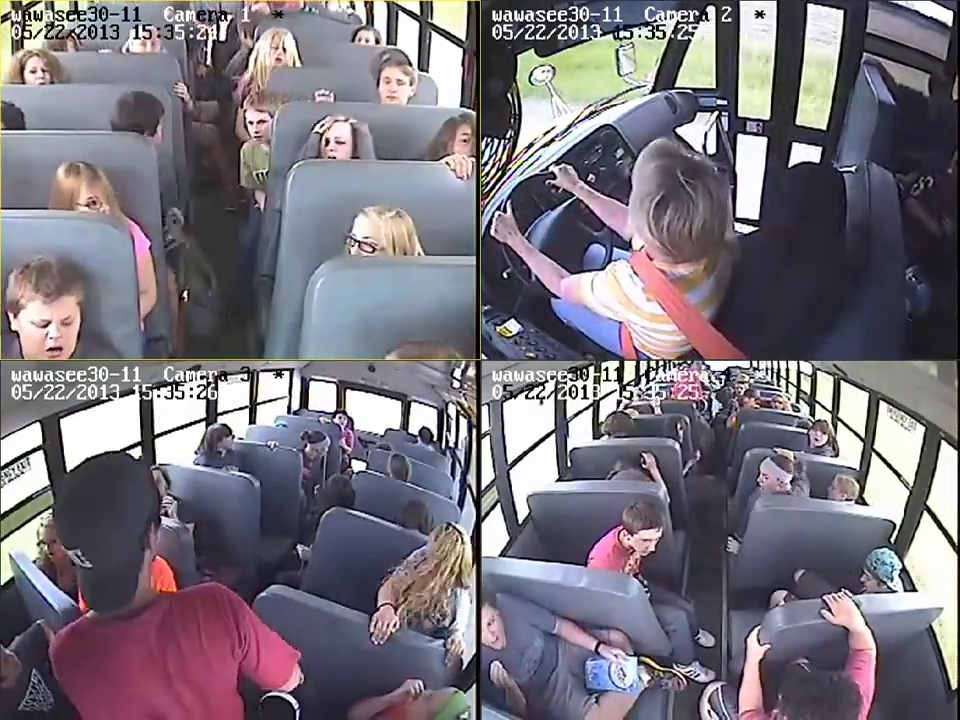face: (19, 304, 80, 361), (320, 127, 354, 159), (480, 602, 504, 647), (449, 122, 476, 159), (381, 72, 410, 105), (634, 521, 661, 556), (245, 108, 271, 141), (38, 528, 60, 566), (23, 59, 52, 83), (268, 36, 290, 66), (352, 28, 380, 48), (755, 466, 775, 488), (804, 429, 828, 447), (337, 412, 349, 423)
